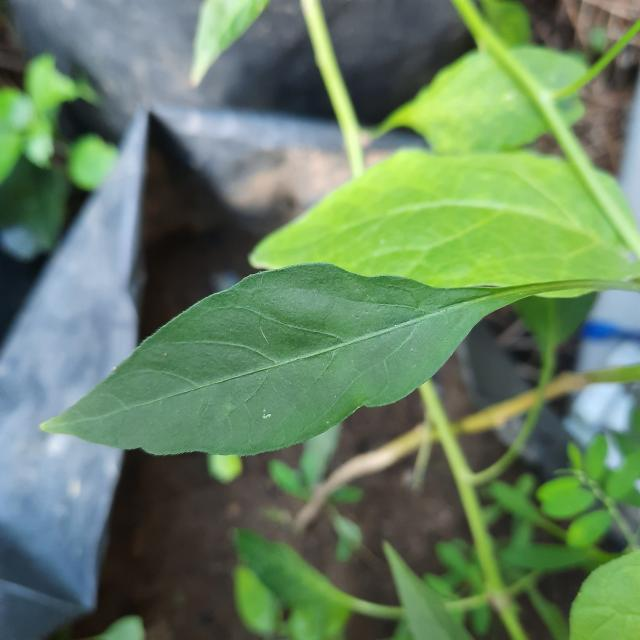sehat: (37, 246, 500, 479)
